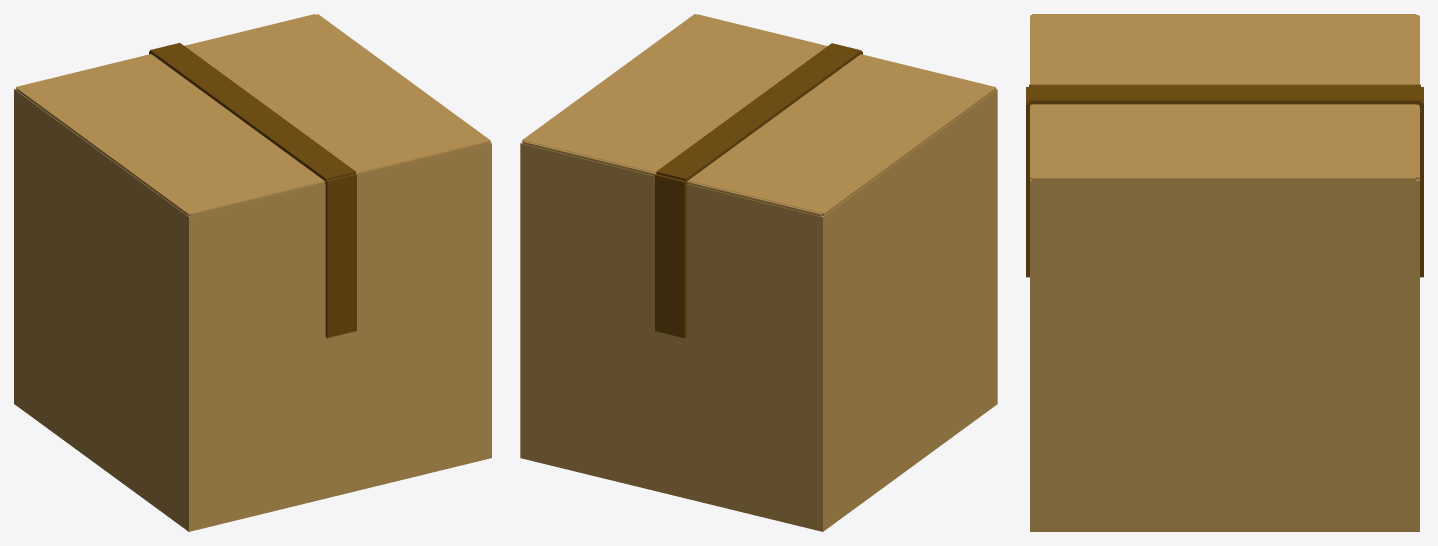
File: Doboz_zartv2.fbx
The picture shows the model from 3 angles, left to right: view 1: azimuth 30°, elevation 25°; view 2: azimuth 150°, elevation 25°; view 3: azimuth 270°, elevation 25°; orthographic projection. The views are drawn at different scales.
Parts seen in each view (by area): view 1: Cube; view 2: Cube; view 3: Cube.
Boxes of the visible parts, x1,y1,x2,y2 form: Cube: (14,14,491,531); Cube: (520,14,997,531); Cube: (1026,14,1423,531).
Bounding box in the file's own units: 203 × 205 × 207.
